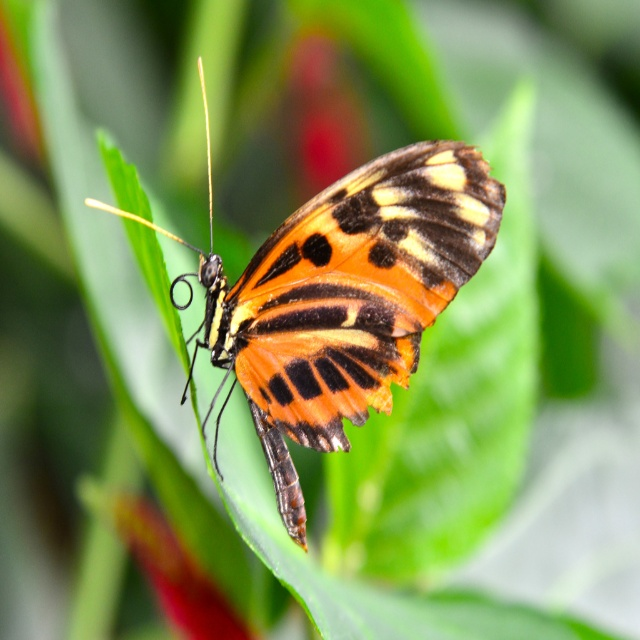Butterfly: (91, 84, 522, 550)
